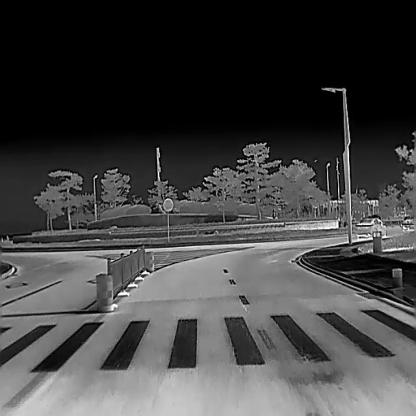car: (355, 218, 387, 238), (400, 215, 414, 231)
